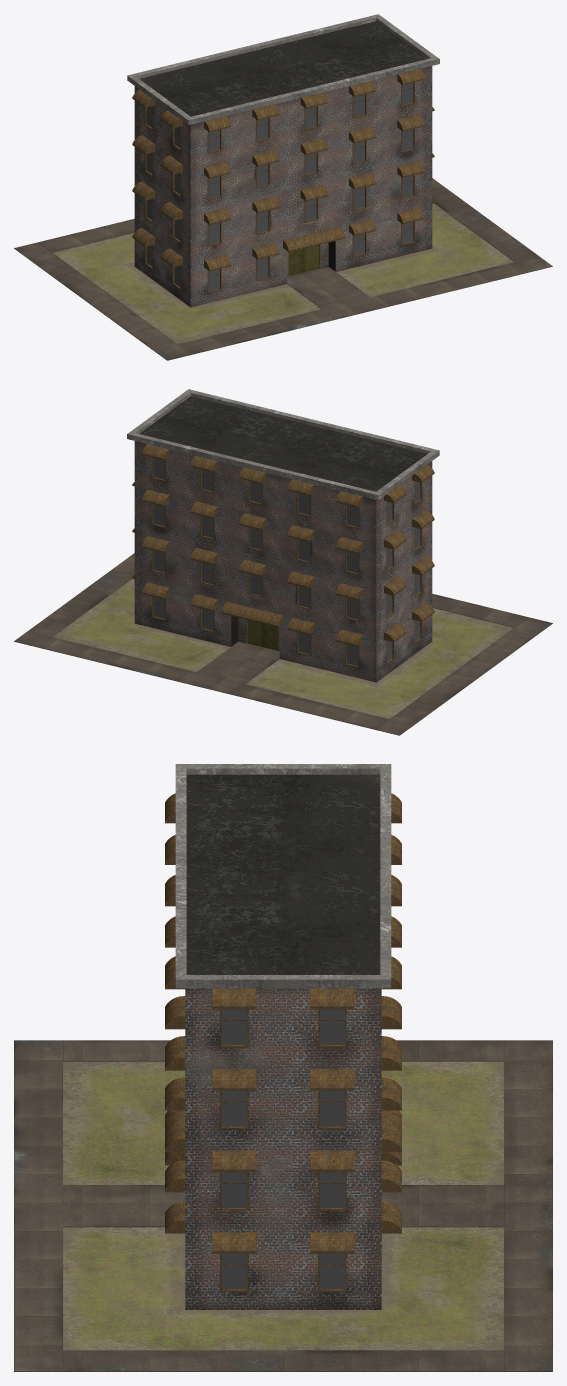
The model's file is building4.glb.
The picture shows the model from 3 angles, top to bottom: view 1: azimuth 30°, elevation 25°; view 2: azimuth 150°, elevation 25°; view 3: azimuth 270°, elevation 25°; orthographic projection. The views are drawn at different scales.
Parts seen in each view (by area): view 1: Material2 (×3); view 2: Material2 (×3); view 3: Material2 (×3).
Boxes of the visible parts, bbox=[...] form: Material2 (×3): bbox=[14, 14, 552, 360]; Material2 (×3): bbox=[14, 389, 552, 735]; Material2 (×3): bbox=[14, 764, 552, 1371].
Size of the model in its own units: 960 by 453 by 661.
3 materials, 2 textured.
